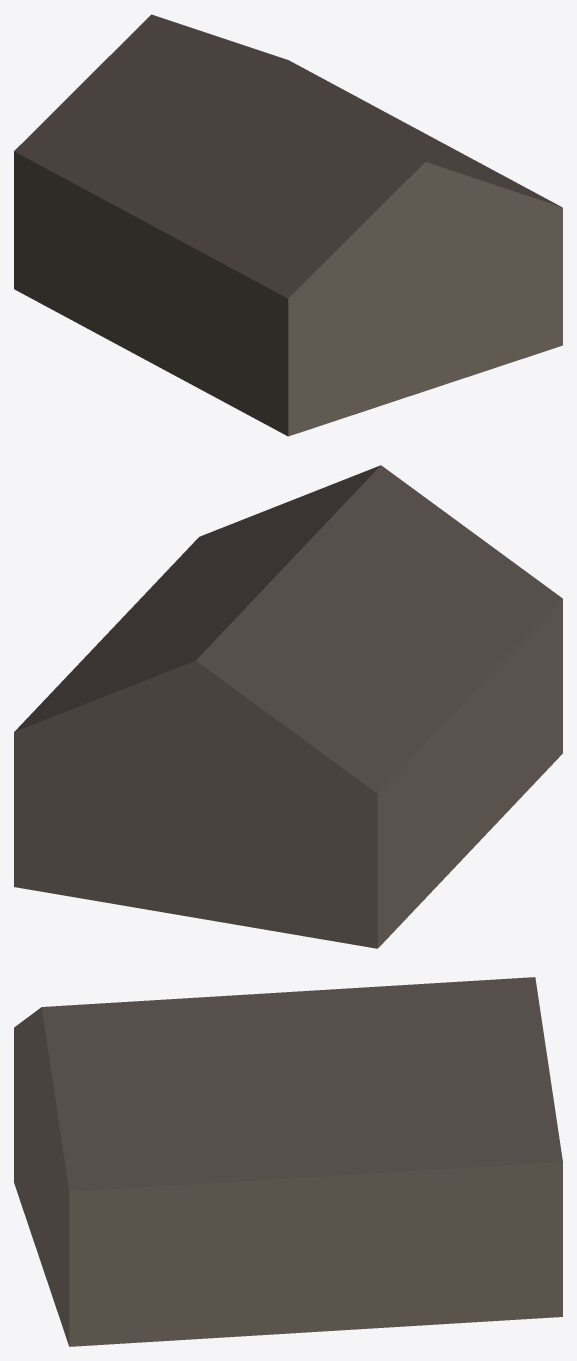
The picture shows the model from 3 angles, top to bottom: view 1: azimuth 30°, elevation 25°; view 2: azimuth 150°, elevation 25°; view 3: azimuth 270°, elevation 25°; orthographic projection. The views are drawn at different scales.
Parts seen in each view (by area): view 1: HP-w1376988701; view 2: HP-w1376988701; view 3: HP-w1376988701.
Boxes of the visible parts, left/top/right/bottom form: HP-w1376988701: left=14, top=14, right=562, bottom=436; HP-w1376988701: left=14, top=465, right=562, bottom=948; HP-w1376988701: left=14, top=977, right=562, bottom=1346.
Size of the model in its own units: 16.12 by 9.98 by 19.26.
